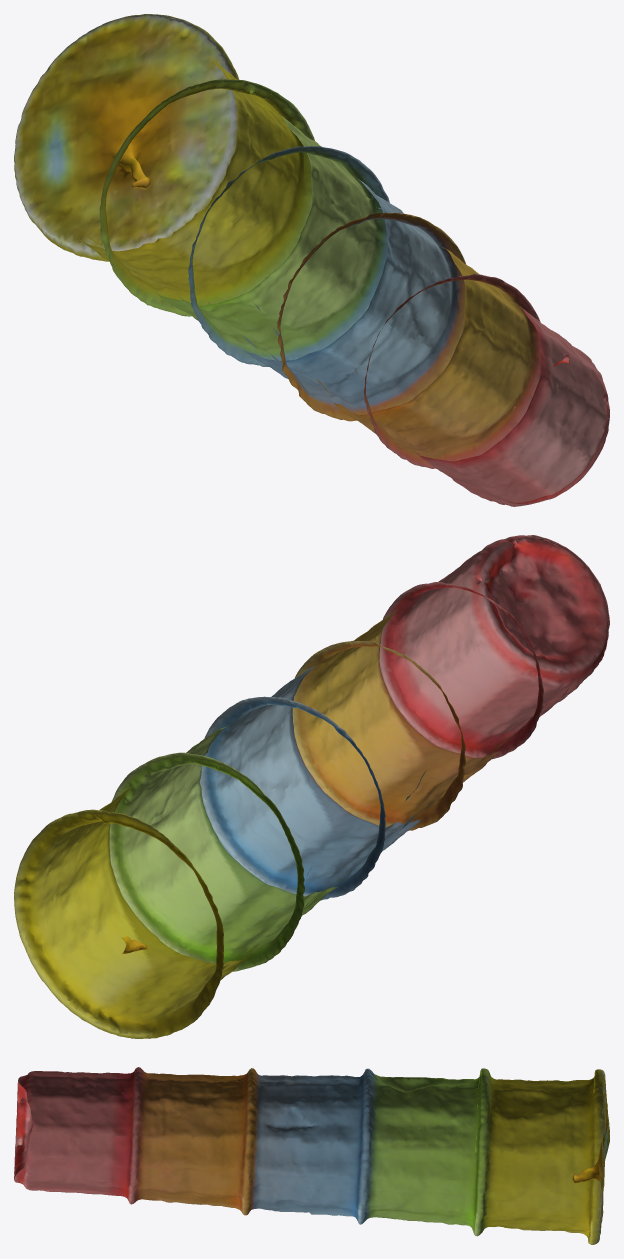
Rendered from stucking_cups.glb.
3 views of the same model, one above another, from view 1: azimuth 30°, elevation 25°; view 2: azimuth 150°, elevation 25°; view 3: azimuth 270°, elevation 25° (orthographic). The views are drawn at different scales.
Size of the model in its own units: 0.2925 by 0.2963 by 1.
